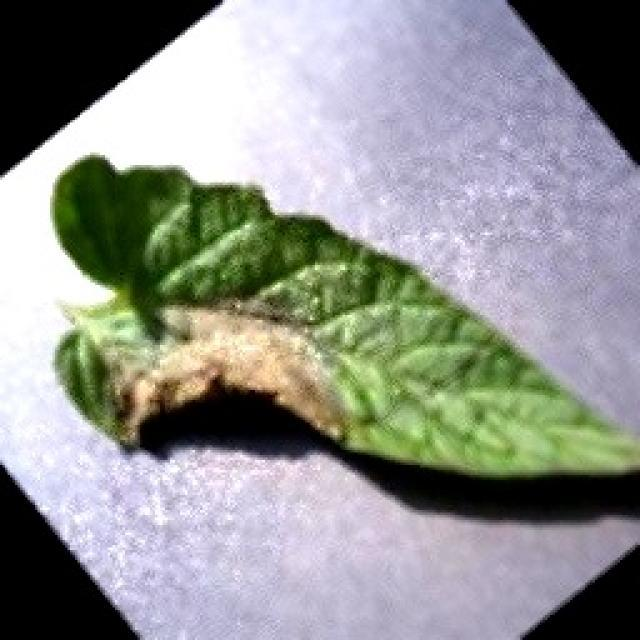leaves: (21, 151, 640, 513)
